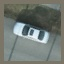car: (12, 22, 51, 44)
